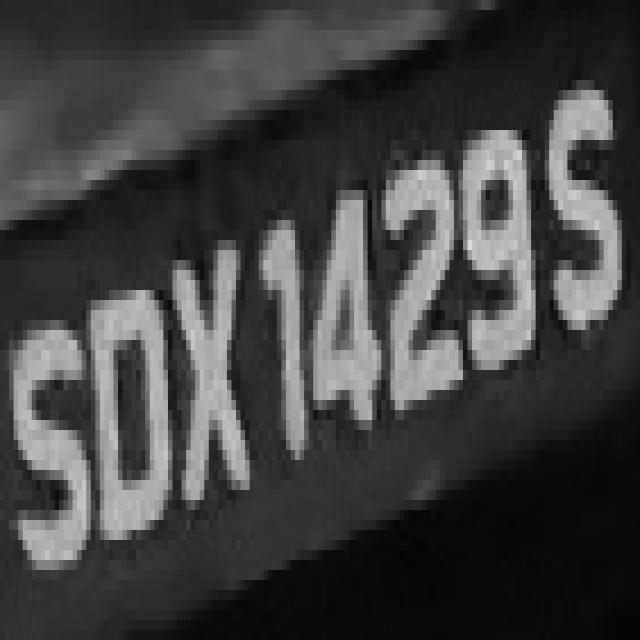1: (268, 180, 318, 480)
2: (372, 140, 472, 440)
4: (299, 160, 376, 440)
9: (444, 110, 536, 390)
D: (86, 280, 172, 570)
S: (531, 40, 626, 370), (9, 290, 95, 610)
X: (159, 230, 259, 530)
